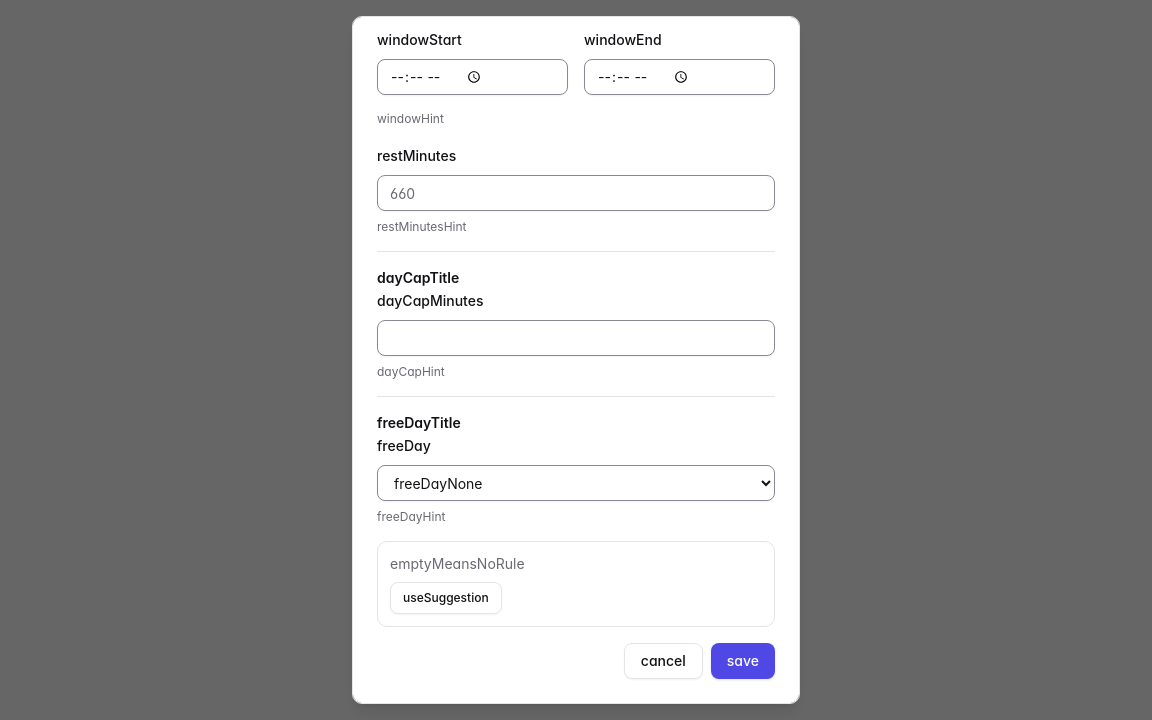
Scenario: the suggestion › fills the draft when it is asked for, and saves nothing by itself
This screenshot has width=1152, height=720.
(page scrolled)
Click the button "useSuggestion" at (446, 598), box [390,582,502,614]
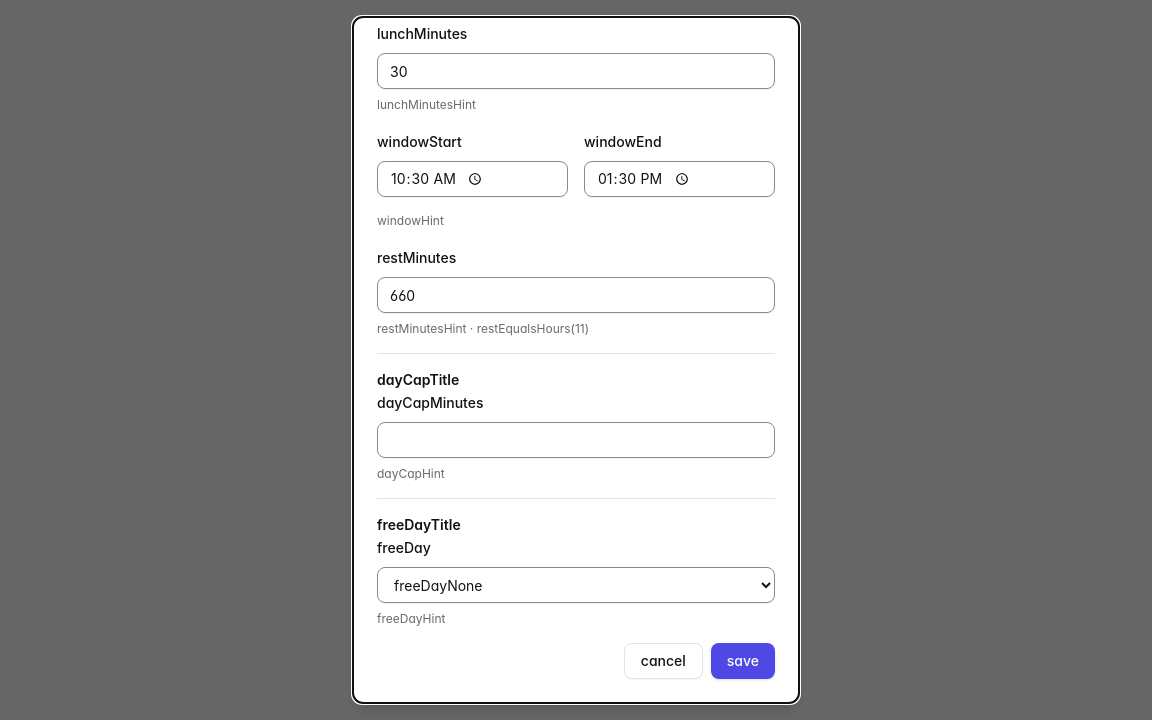
expect the number field labelled "lunchMinutes" holds "30": met, box [377,53,775,89]
expect the time field labelled "windowStart" holds "10:30": met, box [377,161,568,197]
expect the time field labelled "windowEnd" holds "13:30": met, box [584,161,775,197]
